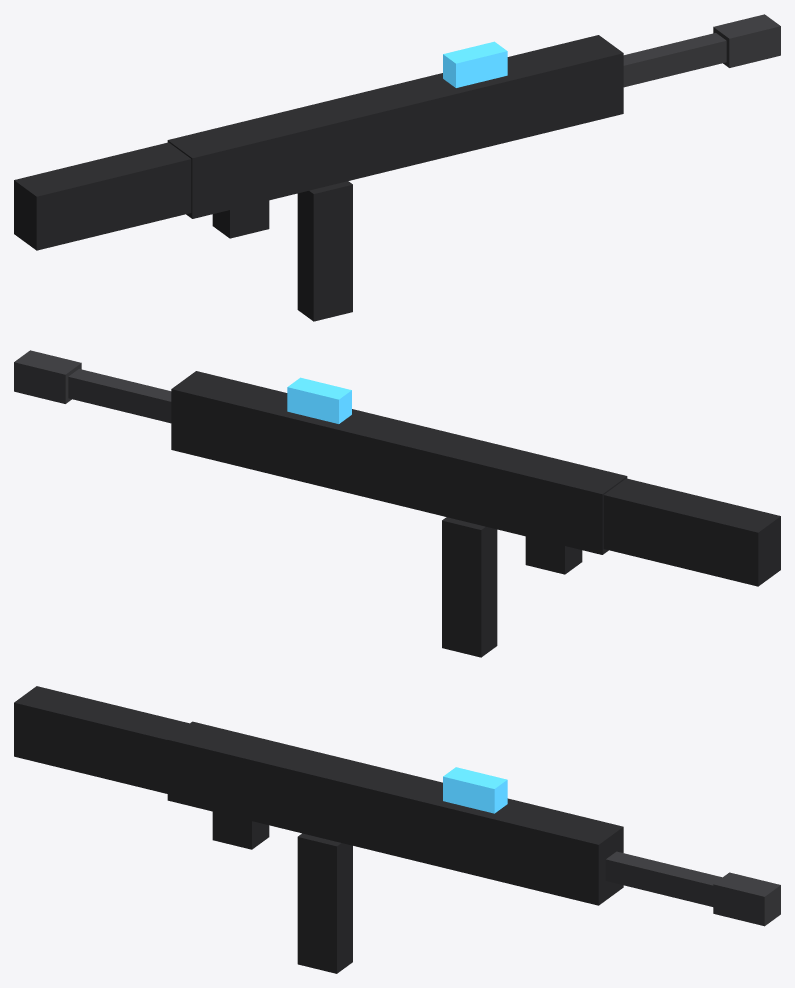
File: SM_Wpn_Rifle.fbx
The picture shows the model from 3 angles, top to bottom: view 1: azimuth 30°, elevation 25°; view 2: azimuth 150°, elevation 25°; view 3: azimuth 330°, elevation 25°; orthographic projection.
Parts seen in each view (by area): view 1: SM_Wpn_Rifle; view 2: SM_Wpn_Rifle; view 3: SM_Wpn_Rifle.
Boxes of the visible parts, box(x1,y1,x2,y2) form: SM_Wpn_Rifle: box(14, 14, 780, 321); SM_Wpn_Rifle: box(14, 350, 780, 657); SM_Wpn_Rifle: box(14, 686, 780, 973).
Bounding box in the file's own units: 79.75 × 4.6 × 22.6.
